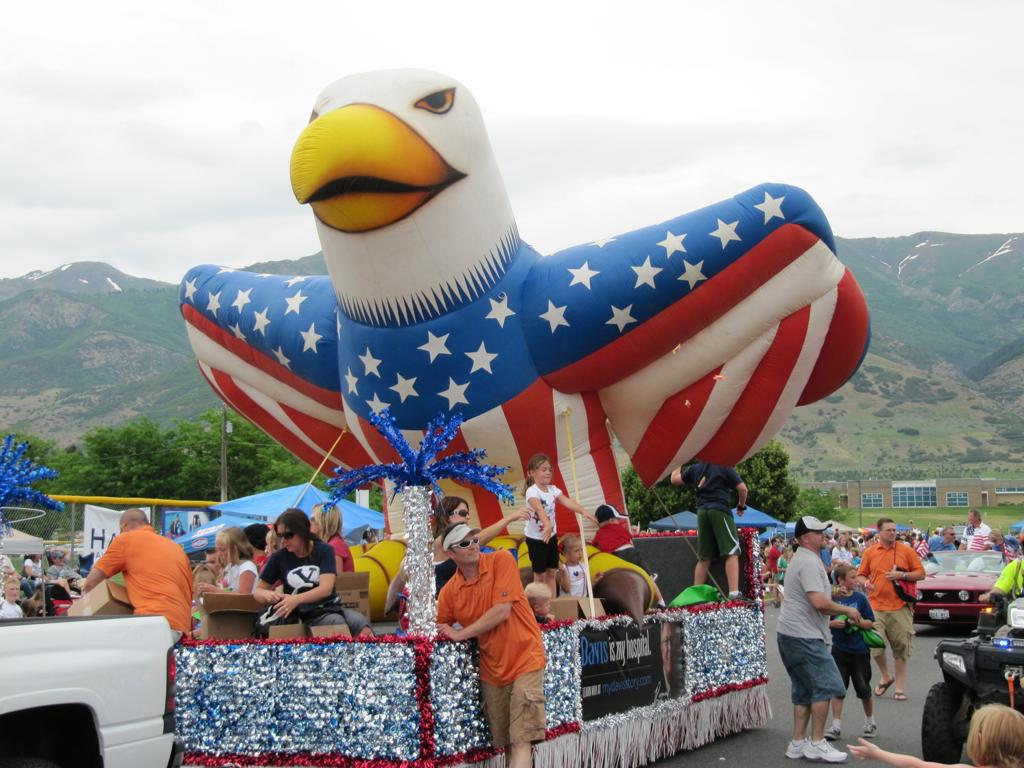face: (455, 535, 479, 563), (278, 526, 301, 552), (452, 503, 470, 529), (216, 540, 235, 564), (207, 555, 224, 577), (535, 465, 552, 484), (809, 529, 825, 549), (843, 571, 857, 590), (539, 597, 551, 619), (882, 525, 896, 543), (570, 545, 583, 563), (7, 584, 20, 600), (310, 519, 321, 534), (56, 555, 64, 566), (968, 514, 976, 524), (2, 569, 9, 579), (948, 530, 955, 540), (841, 539, 846, 546)
